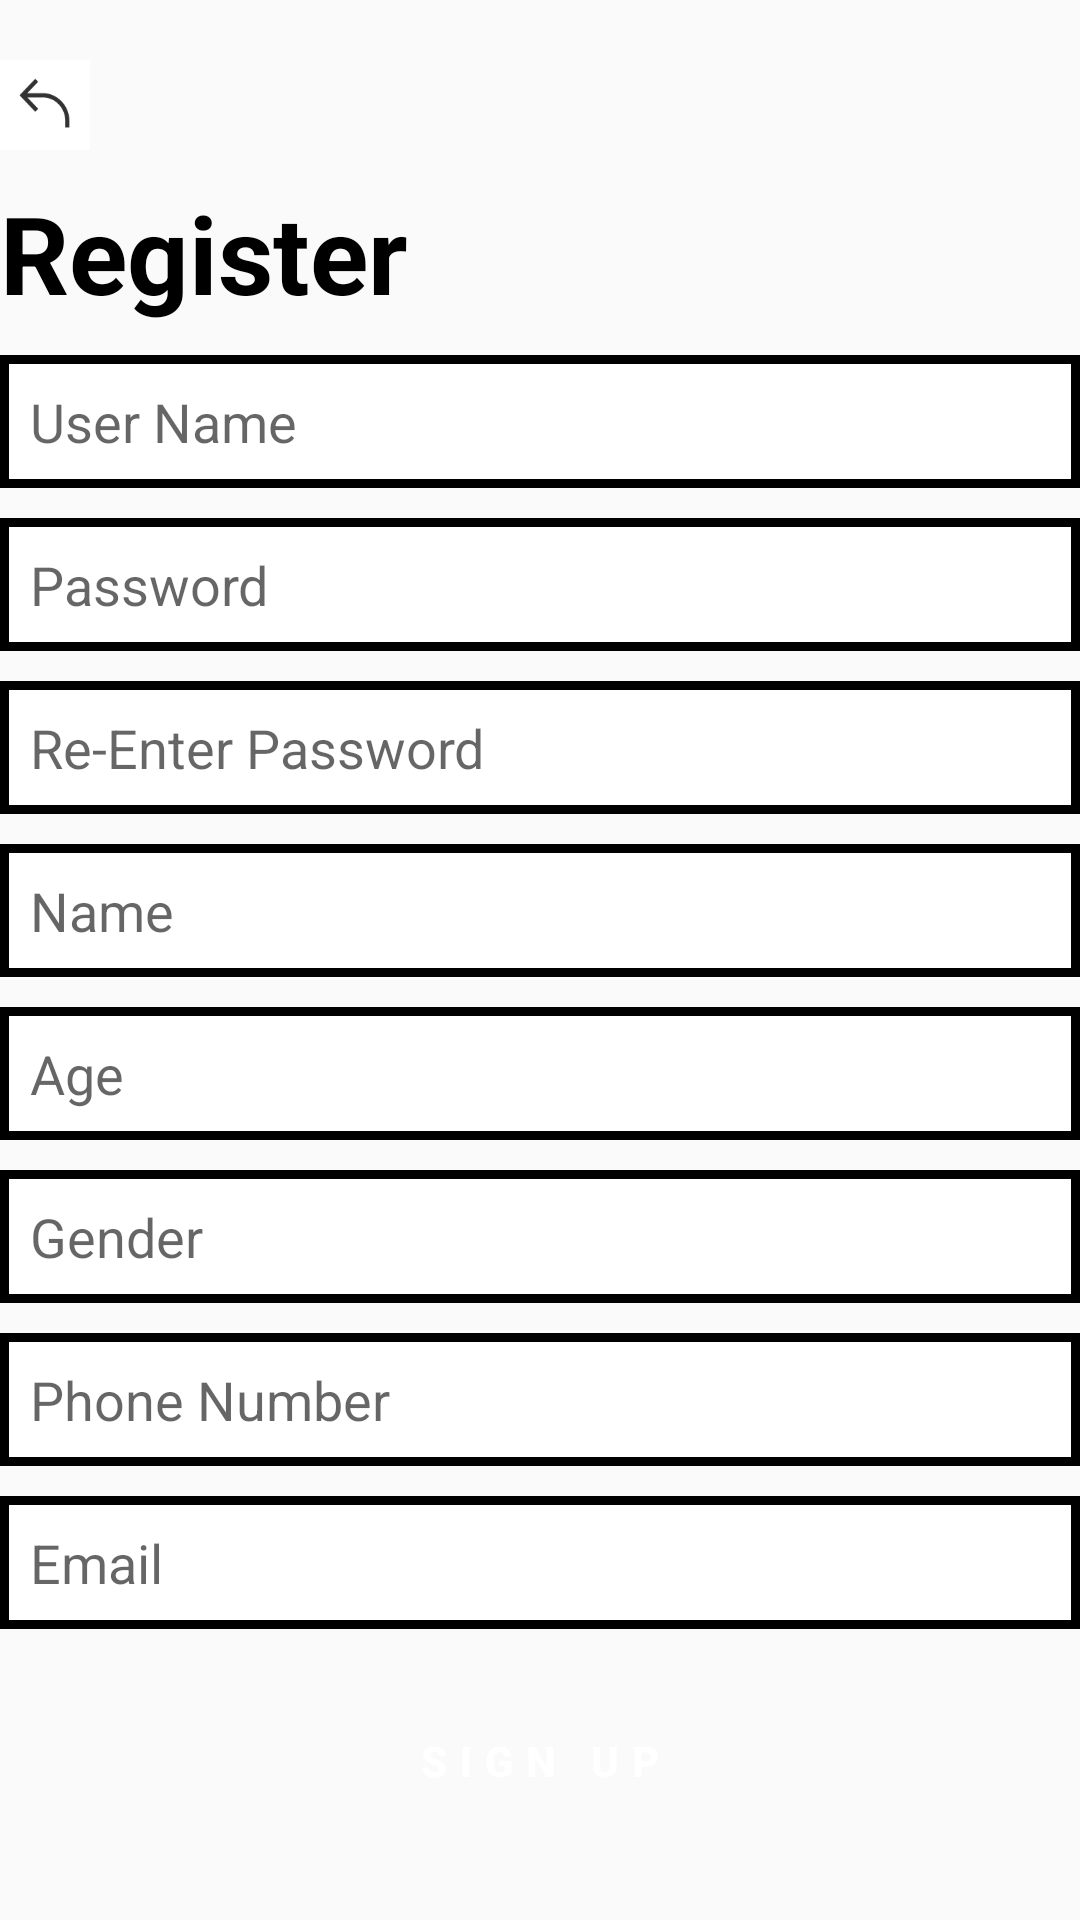

Screen size 1080 × 1920. Icon name, then its center in pixels as [x,y]:
backbutton: [44,103]
